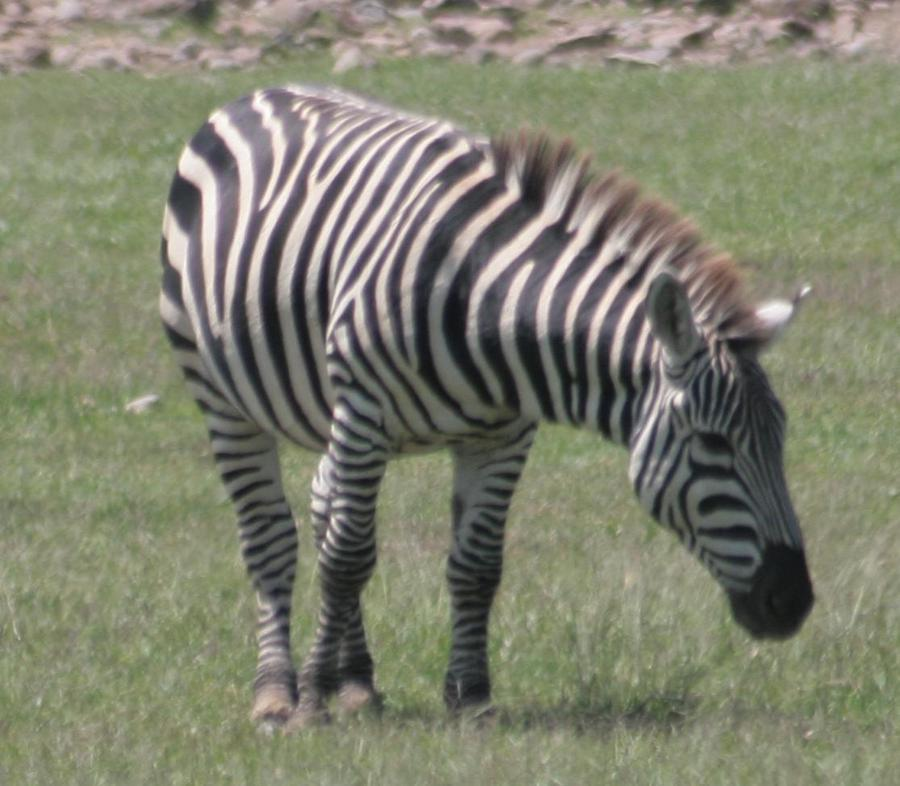zebra_plains: (104, 92, 546, 492)
